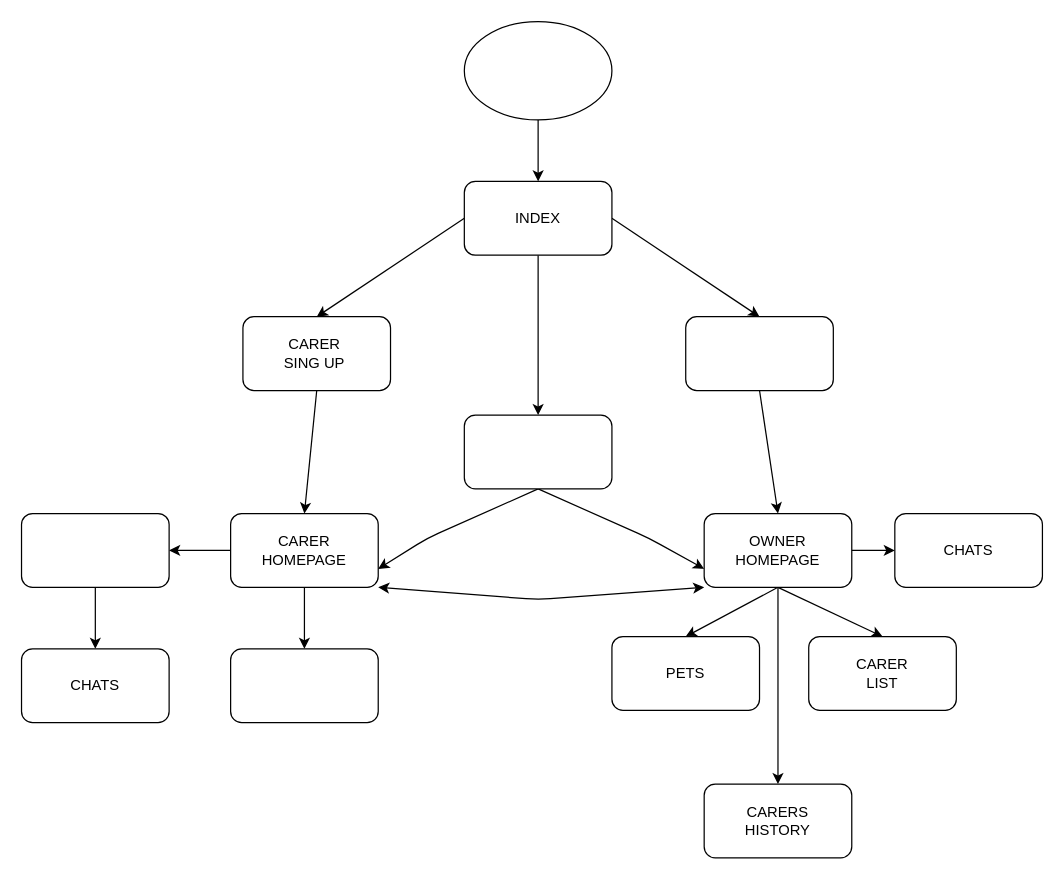
This 1064x879 diagram has some shape labels left out. The shapes that lost their labels are listed below. From the top down, each one's box as (x1, y1, x2, y2) in pixels, then its label:
(463, 20, 612, 120): MASCOTIER
(684, 315, 833, 391): OWNER SING UP
(463, 414, 612, 489): LOGIN
(20, 512, 169, 587): INBOX/REQUESTS
(229, 648, 378, 723): PROFILE (SETTTINGS)
